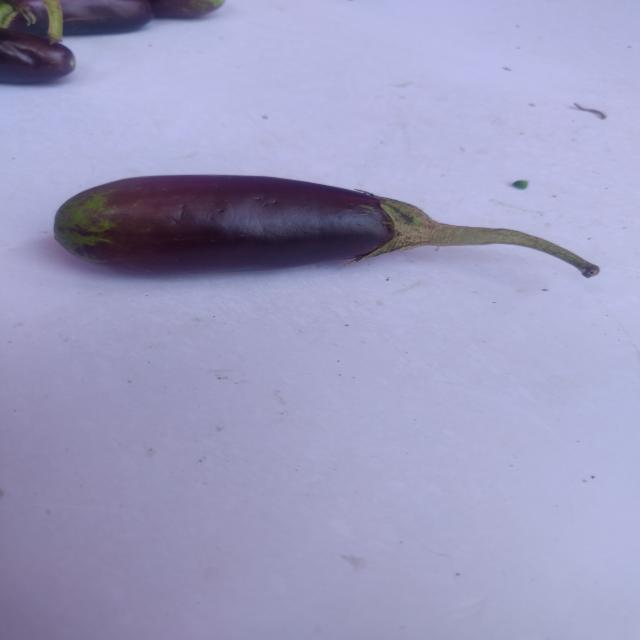Brinjal: (38, 163, 604, 313)
